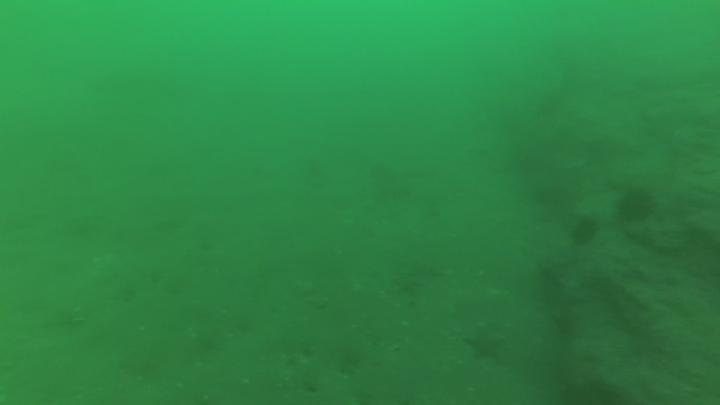echinus: (618, 187, 654, 227), (572, 217, 598, 249)
starfish: (462, 326, 515, 367)
